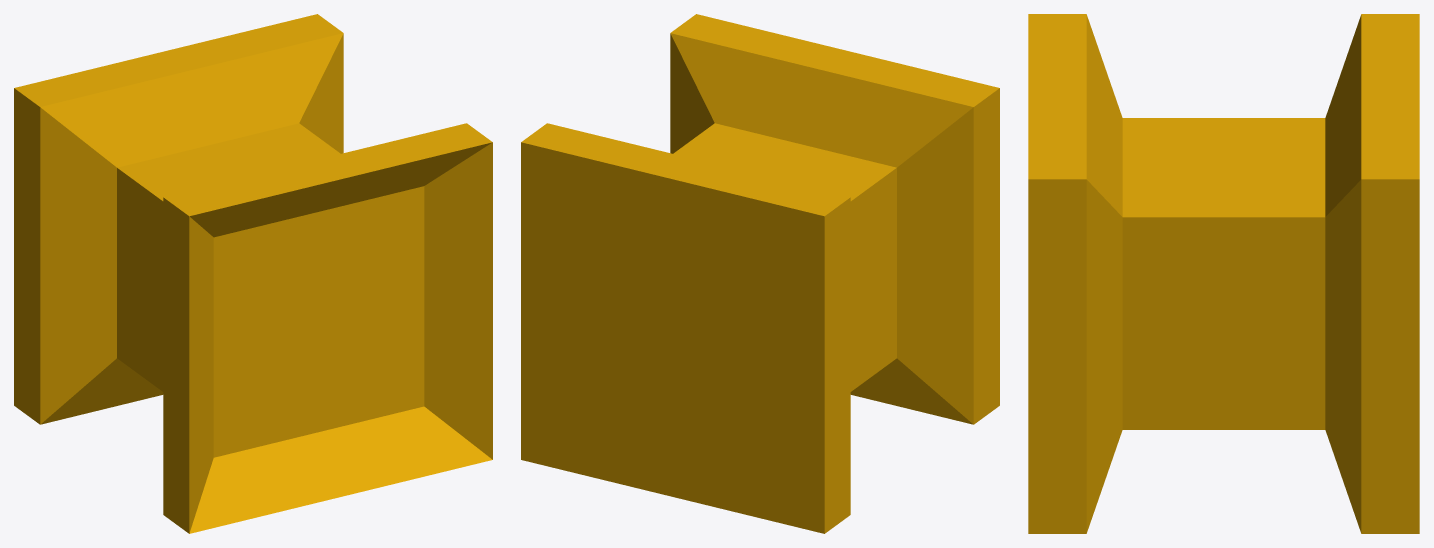
The model's file is throne.glb.
3 renders of one model, left to right at view 1: azimuth 30°, elevation 25°; view 2: azimuth 150°, elevation 25°; view 3: azimuth 270°, elevation 25°, orthographic. The views are drawn at different scales.
Visible parts, largest first — view 1: throne; view 2: throne; view 3: throne.
Part boxes in pixels (x1=…): throne: x1=14, y1=14, x2=492, y2=533; throne: x1=521, y1=14, x2=999, y2=533; throne: x1=1028, y1=14, x2=1419, y2=533.
Size of the model in its own units: 1 by 1 by 1.
